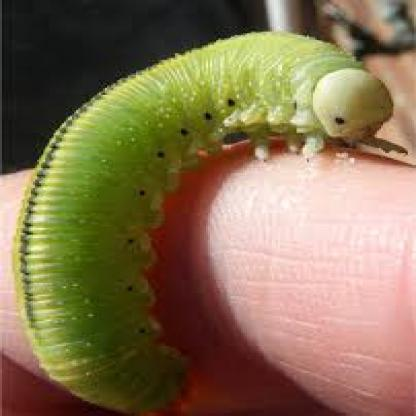sawfly: (9, 27, 406, 416)
